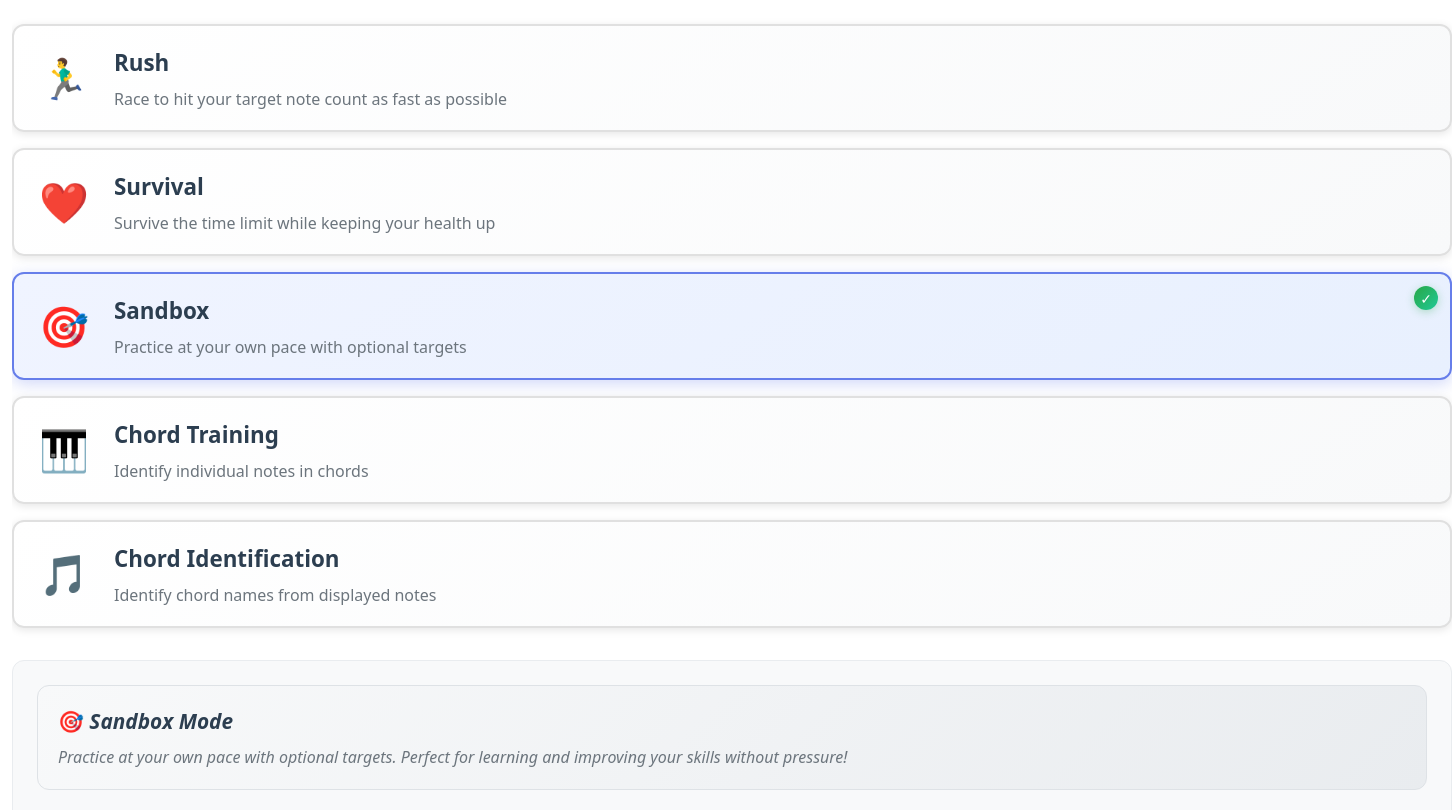
Test: Training Type Switching Integration Test › Cross-Training Type Switching › should switch from Rush (ear-training) to Chord Training (note-training)
Click the text "Rush".
click(732, 78)  # box [12,24,1451,132]
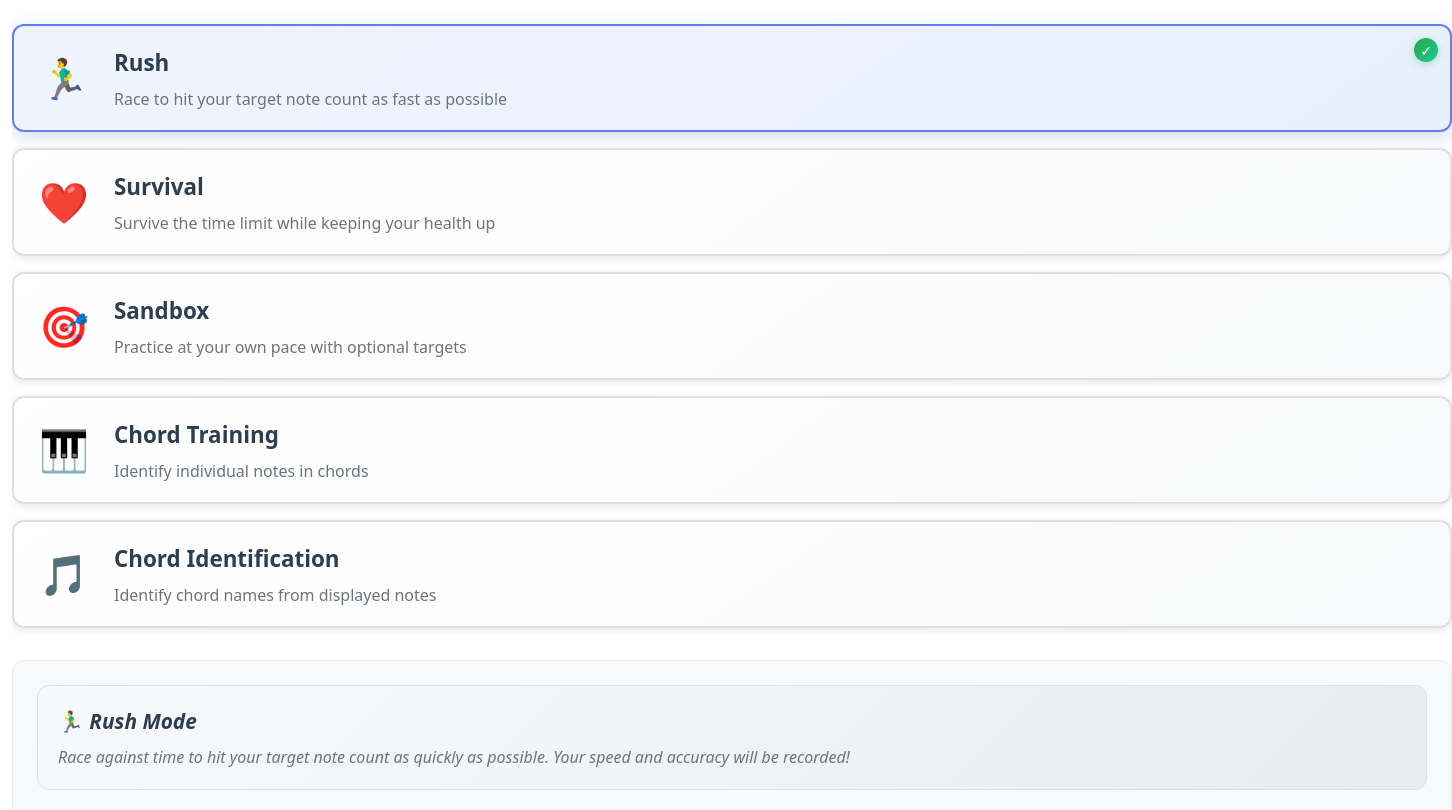
Click the text "Chord Training".
click(732, 450)  # box [12,396,1451,504]
(page scrolled)
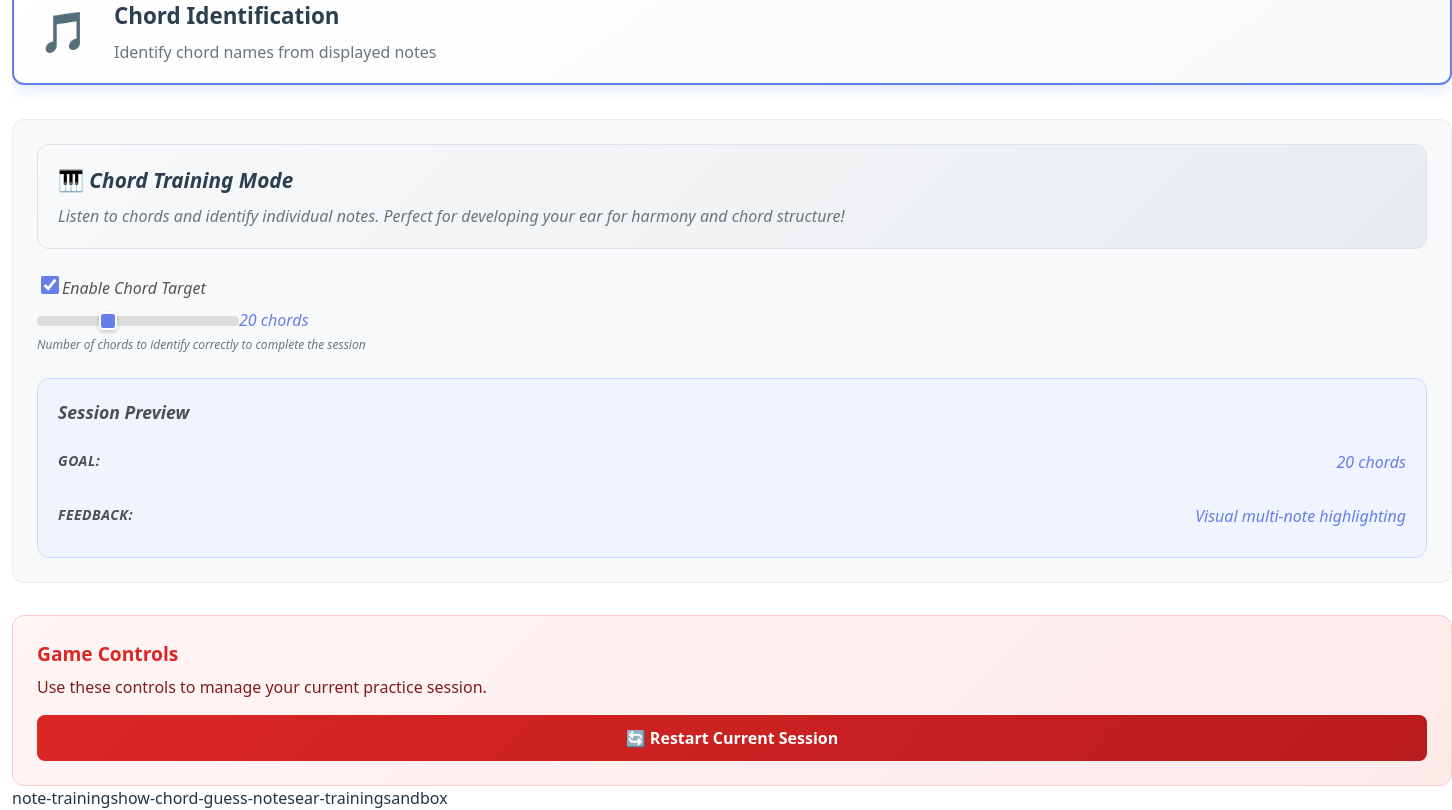
Expected: the text with test id "pending-selected-mode" reads "show-chord-guess-notes", [110,787,295,809]
Expected: the text with test id "pending-training-type" reads "note-training", [12,787,110,809]
